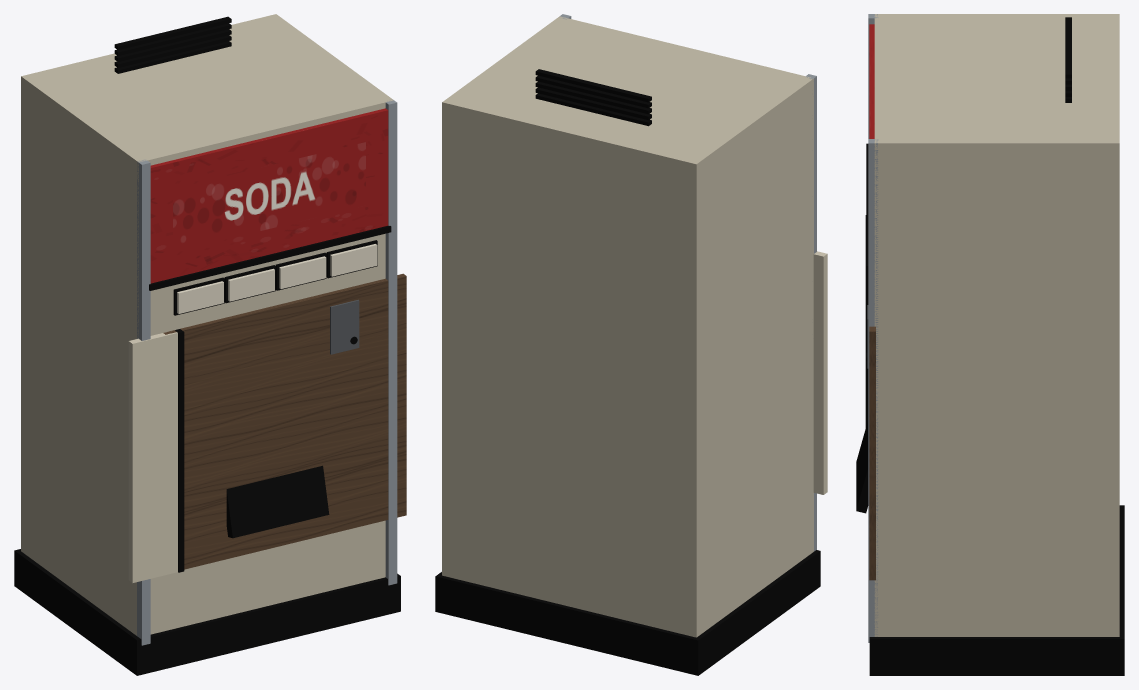
The model's file is SodaVendingMachine.obj.
3 renders of one model, left to right at view 1: azimuth 30°, elevation 25°; view 2: azimuth 150°, elevation 25°; view 3: azimuth 270°, elevation 25°, orthographic. The views are drawn at different scales.
Visible parts, largest first — view 1: SodaVendingMachine; view 2: SodaVendingMachine; view 3: SodaVendingMachine.
Boxes of the visible parts, x1,y1,x2,y2 form: SodaVendingMachine: [14, 14, 406, 675]; SodaVendingMachine: [435, 14, 827, 675]; SodaVendingMachine: [856, 14, 1124, 675].
Size of the model in its own units: 0.97 by 1.83 by 0.7893.
Materials: 10 (3 with a texture image).
